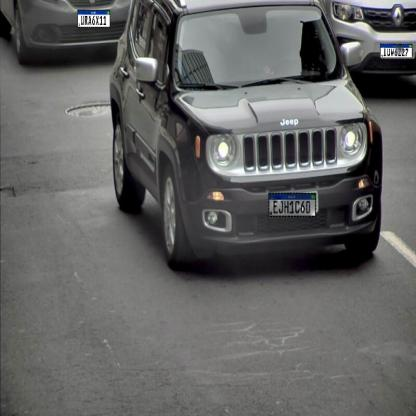PlacaM: (268, 193, 316, 217), (78, 10, 110, 28), (380, 44, 412, 58)
